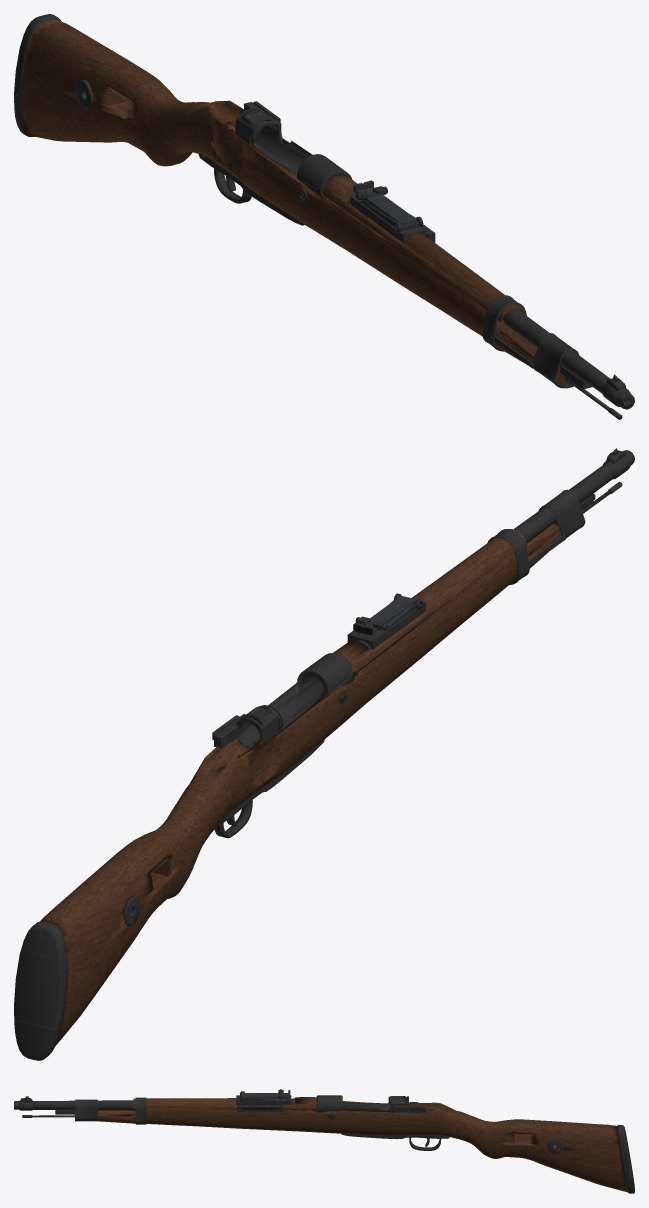
The model's file is SM_Kar98k_BoltBody_LOD2.fbx.
3 renders of one model, top to bottom at view 1: azimuth 30°, elevation 25°; view 2: azimuth 150°, elevation 25°; view 3: azimuth 270°, elevation 25°, orthographic. The views are drawn at different scales.
Visible parts, largest first — view 1: SM_Kar98k_Body_LOD2; view 2: SM_Kar98k_Body_LOD2; view 3: SM_Kar98k_Body_LOD2.
Boxes of the visible parts, x1,y1,x2,y2 form: SM_Kar98k_Body_LOD2: [14, 14, 634, 419]; SM_Kar98k_Body_LOD2: [14, 448, 634, 1060]; SM_Kar98k_Body_LOD2: [14, 1089, 634, 1193].
Bounding box in the file's own units: 5.32 × 110 × 19.66.
